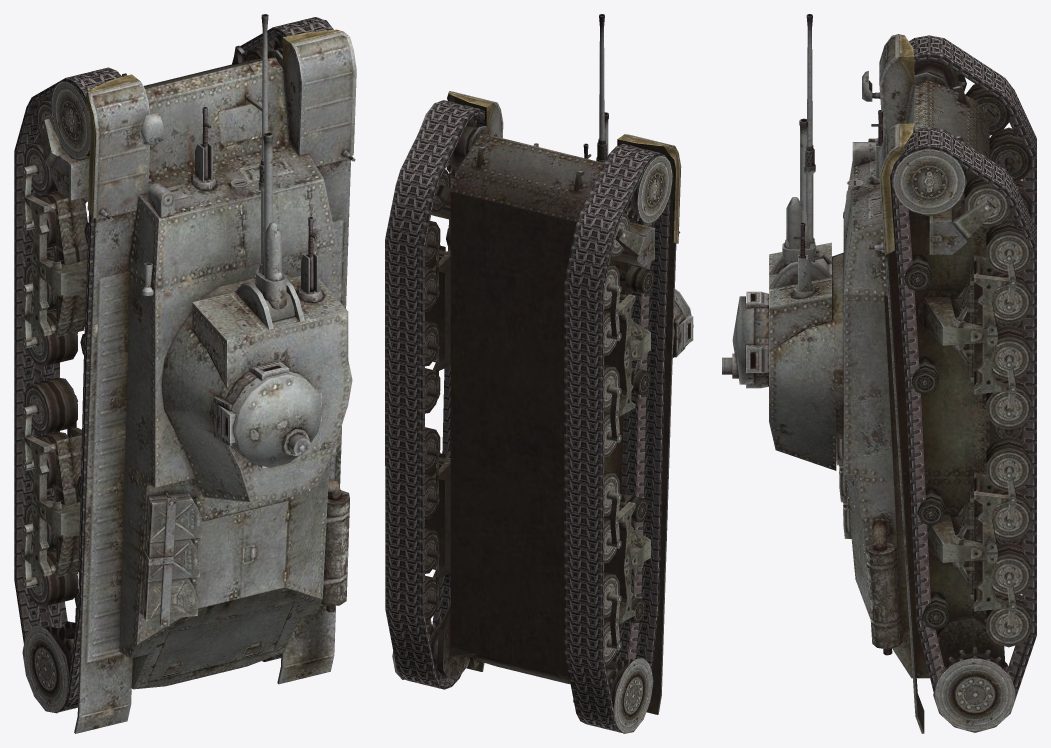
3 views of the same model, side by side, from view 1: azimuth 30°, elevation 25°; view 2: azimuth 150°, elevation 25°; view 3: azimuth 270°, elevation 25° (orthographic). The views are drawn at different scales.
Parts seen in each view (by area): view 1: hull, turret_01, chassis_track_L, chassis_wheel_L_15, chassis_wheel_L_07, chassis_wheel_L_01, gun_04, chassis_wheel_L_06, chassis_wheel_L_10, gun_02, chassis_track_R, chassis_wheel_L_03 (+3 smaller); view 2: hull, chassis_track_L, chassis_track_R, chassis_wheel_L_15, chassis_wheel_L_01, turret_01, chassis_wheel_R_01, gun_05, chassis_wheel_L_11, chassis_wheel_R_15; view 3: hull, turret_01, chassis_track_R, chassis_wheel_R_15, chassis_track_L, chassis_wheel_R_01, chassis_wheel_R_07, chassis_wheel_R_03, gun_02, chassis_wheel_R_05, chassis_wheel_R_09, chassis_wheel_R_06 (+13 smaller).
Boxes of the visible parts, x1,y1,x2,y2 form: hull: (21,29,356,733); turret_01: (161,217,352,502); chassis_track_L: (14,67,122,712); chassis_wheel_L_15: (22,621,75,713); chassis_wheel_L_07: (24,377,77,434); chassis_wheel_L_01: (50,80,90,160); gun_04: (256,132,286,309); chassis_wheel_L_06: (27,309,77,366); chassis_wheel_L_10: (27,550,77,606); gun_02: (255,158,294,321); chassis_track_R: (232,17,332,661); chassis_wheel_L_03: (24,141,57,194); hull: (425,91,681,714); chassis_track_L: (564,144,670,732); chassis_track_R: (385,100,484,689); chassis_wheel_L_15: (605,656,653,733); chassis_wheel_L_01: (624,155,673,223); turret_01: (672,289,693,358); chassis_wheel_R_01: (419,102,477,176); gun_05: (599,14,604,140); chassis_wheel_L_11: (625,266,654,293); chassis_wheel_R_15: (392,615,444,679); hull: (836,34,1016,733); turret_01: (722,222,843,470); chassis_track_R: (891,127,1036,694); chassis_wheel_R_15: (933,646,1016,732); chassis_track_L: (909,35,1036,229); chassis_wheel_R_01: (891,147,966,216); chassis_wheel_R_07: (986,436,1031,491); chassis_wheel_R_03: (986,219,1031,274); gun_02: (786,145,822,261); chassis_wheel_R_05: (992,325,1031,380); chassis_wheel_R_09: (992,542,1031,597); chassis_wheel_R_06: (986,377,1031,429).
Bounding box in the file's own units: 2.08 × 5.52 × 2.38.
2 materials, 2 textured.
